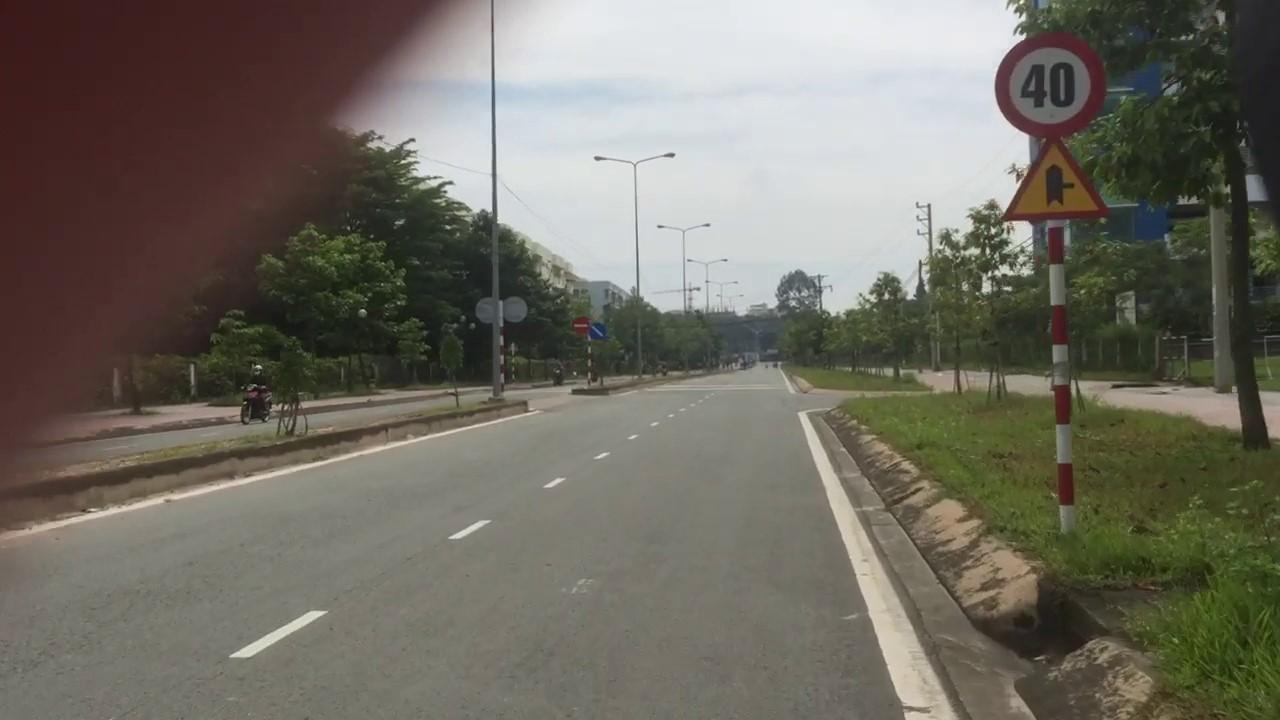P.131a: (996, 29, 1110, 143)
